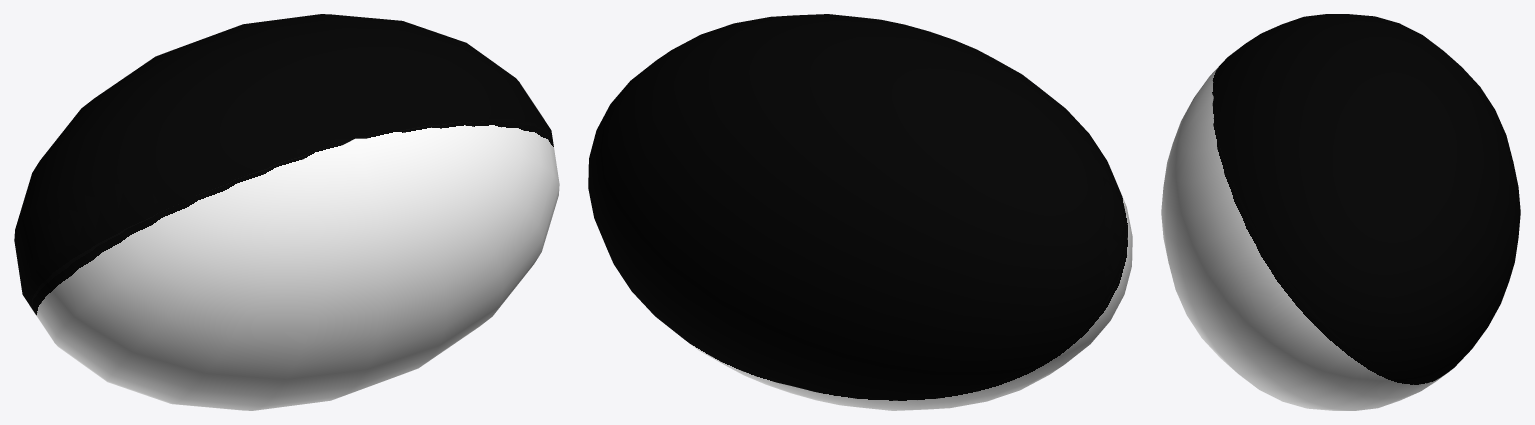
Rendered from Capsula.fbx.
3 views of the same model, side by side, from view 1: azimuth 30°, elevation 25°; view 2: azimuth 150°, elevation 25°; view 3: azimuth 270°, elevation 25° (orthographic). The views are drawn at different scales.
Visible parts, largest first — view 1: pSphere5; view 2: pSphere5; view 3: pSphere5.
Part boxes in pixels (<box>): pSphere5: <box>14,14,559,410</box>; pSphere5: <box>588,14,1132,410</box>; pSphere5: <box>1161,14,1520,410</box>.
Bounding box in the file's own units: 0.3844 × 0.2516 × 0.2516.
